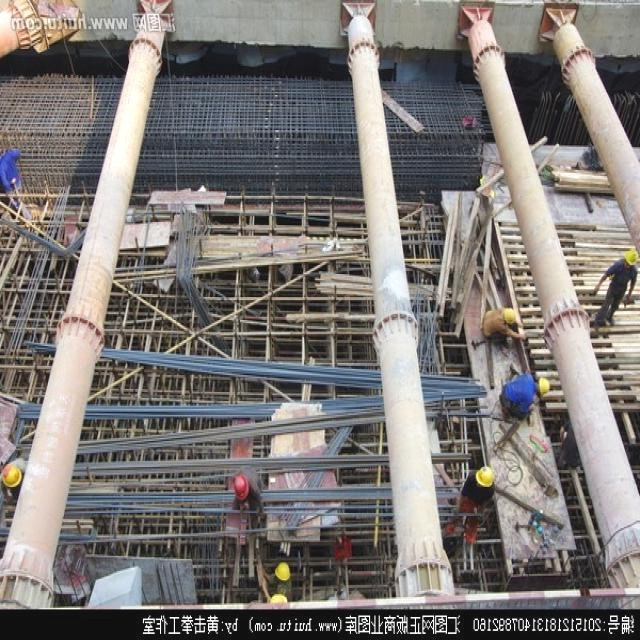Con_Casco: (232, 474, 250, 502), (476, 464, 495, 489), (536, 375, 552, 400)
